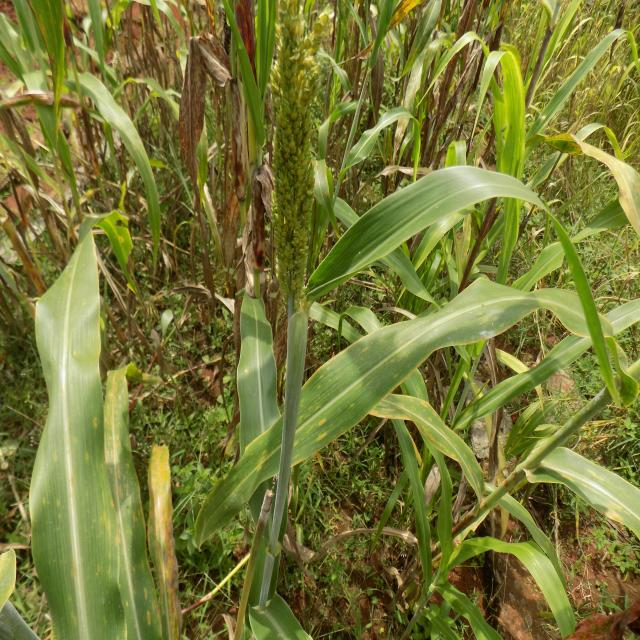millet_healthy: (191, 281, 636, 560), (307, 166, 640, 414), (29, 232, 124, 640), (306, 165, 545, 301), (56, 71, 164, 276), (471, 32, 532, 282), (448, 530, 584, 640), (195, 418, 282, 546), (526, 447, 640, 540), (237, 292, 280, 453)
millet_rust: (189, 266, 640, 538), (178, 33, 232, 182), (147, 444, 182, 640)
